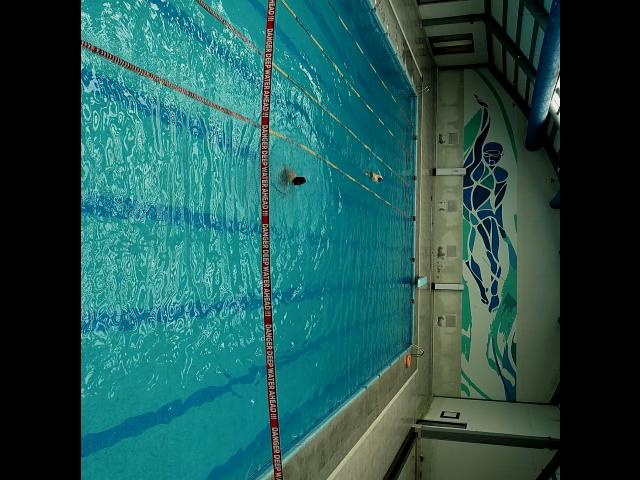swimming: (279, 169, 307, 189), (366, 171, 384, 183)
